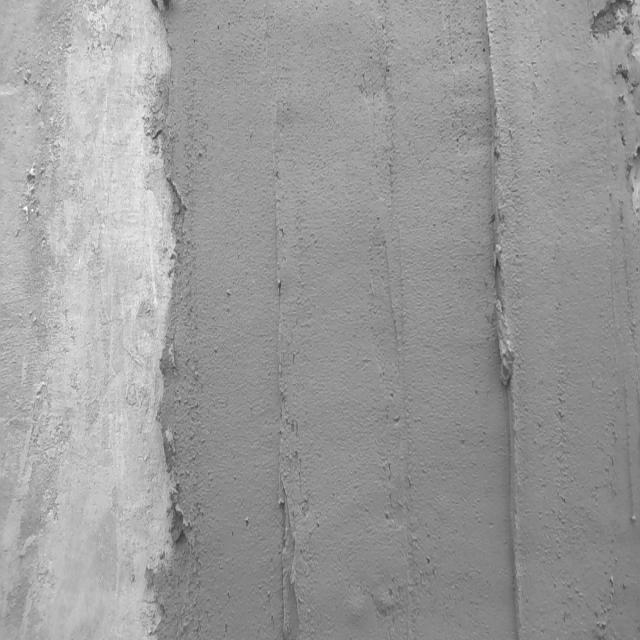trowels marks: (482, 12, 526, 640), (271, 145, 301, 640)
